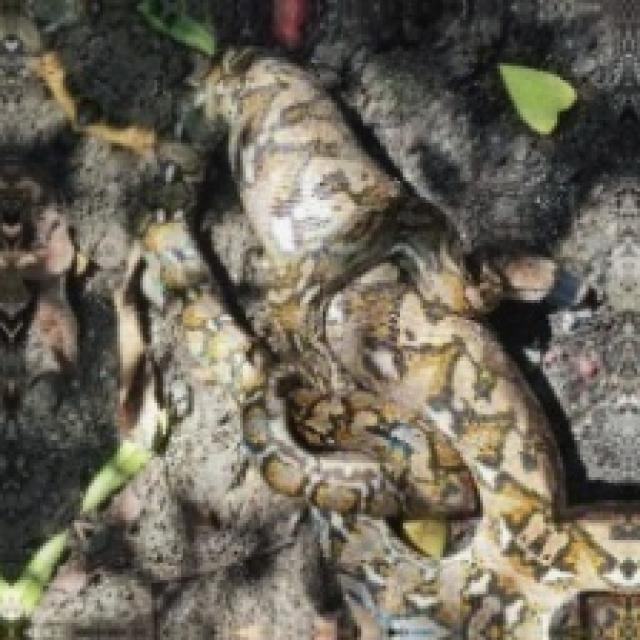reticulated python: (120, 54, 640, 640)
